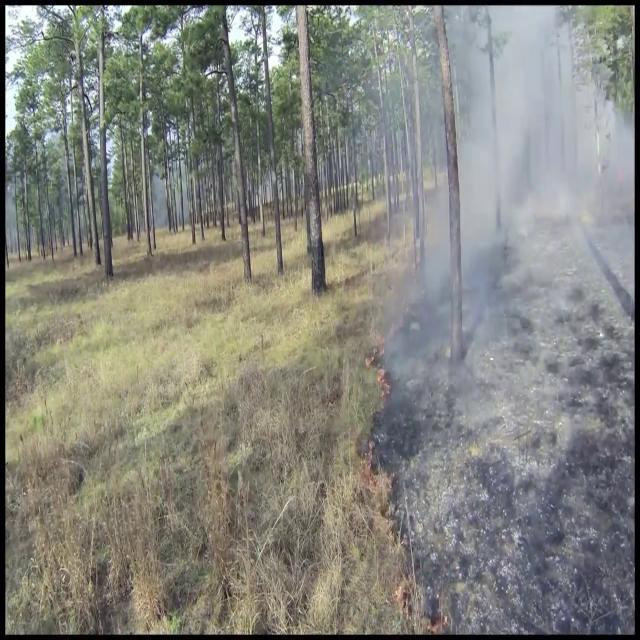Smoke: (376, 6, 622, 477)
